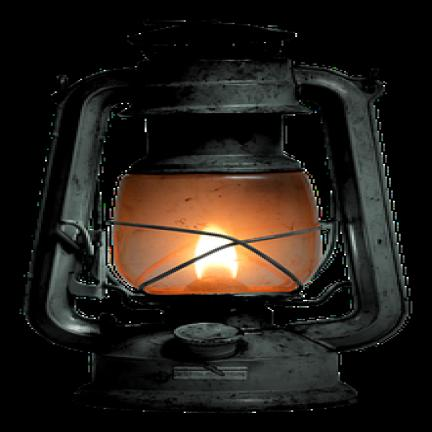besi_tidak_karat: (77, 327, 357, 412), (133, 59, 308, 116)
